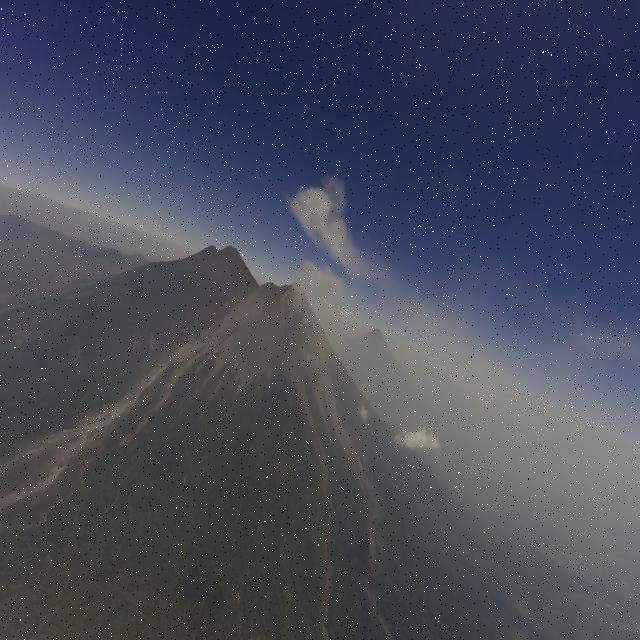Plume: (286, 169, 384, 292)
Summit: (284, 282, 312, 302)
